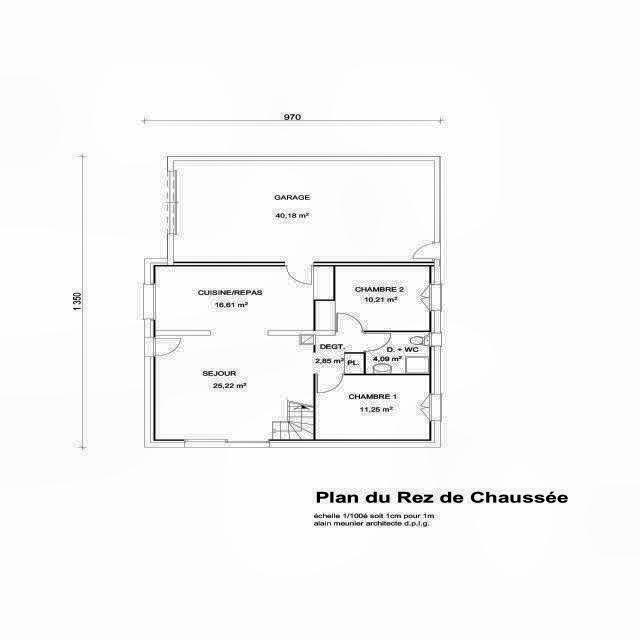room: (173, 160, 434, 262), (154, 335, 313, 439), (155, 267, 333, 331), (315, 266, 430, 331), (316, 375, 429, 439), (366, 332, 429, 374), (315, 332, 364, 374)
